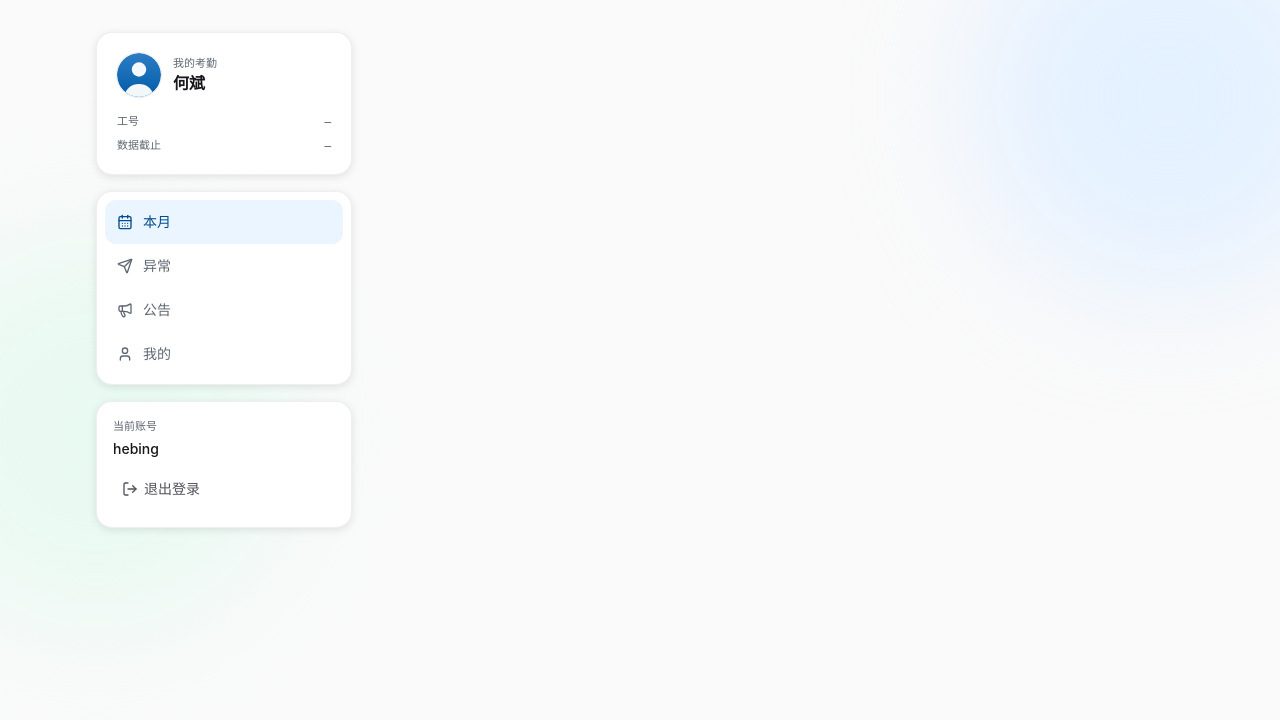
Scenario: 员工门户状态细节（qa-2 / qa-4 / qa-5 / qa-7 / qa-18） › 迟到预填原卡时间，且输入框走品牌焦点环
What coordinates should you click on to do the following:
click the button "异常"
I would click on:
 (224, 266)
Its box is [105,244,343,288].
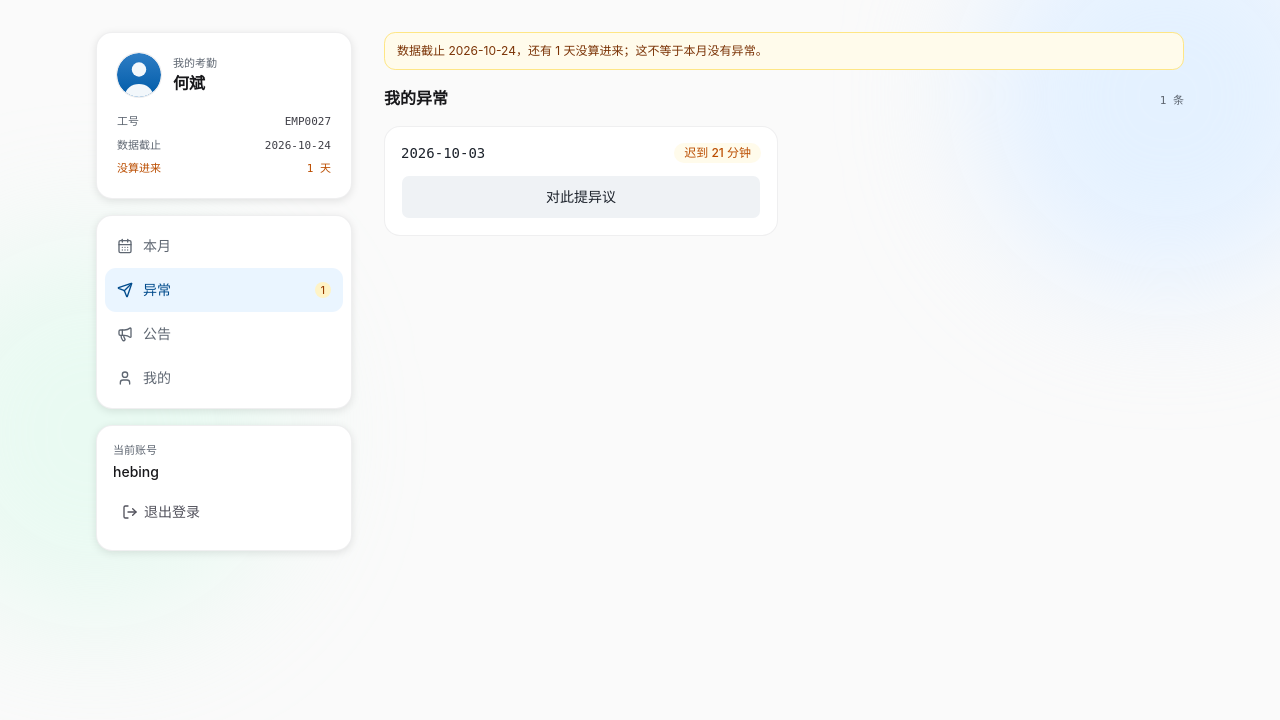
What coordinates should you click on to do the following:
click the button "对此提异议"
I would click on:
 (581, 196)
Its box is [401,174,761,218].
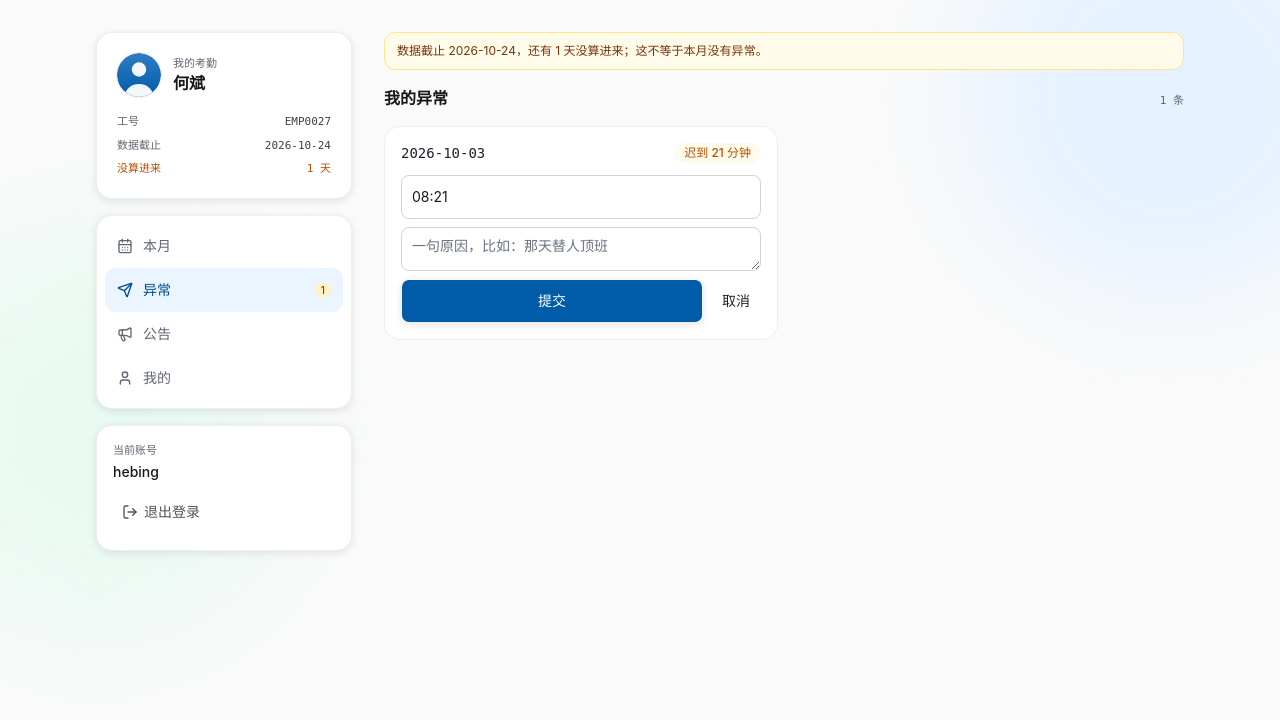
Expected: the field named "打卡时间" holds "08:21", [401,174,761,218]
